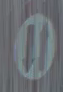Two way: (12, 9, 54, 75)
